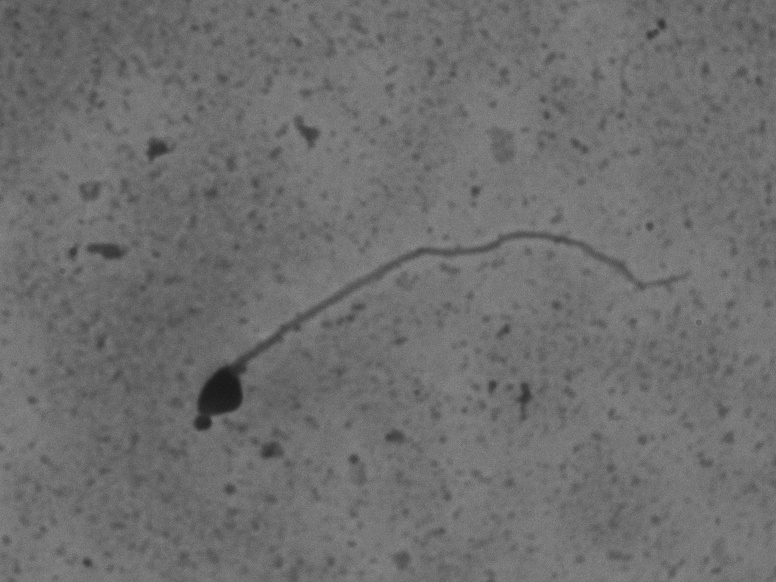Abnormal: (148, 162, 686, 435)
